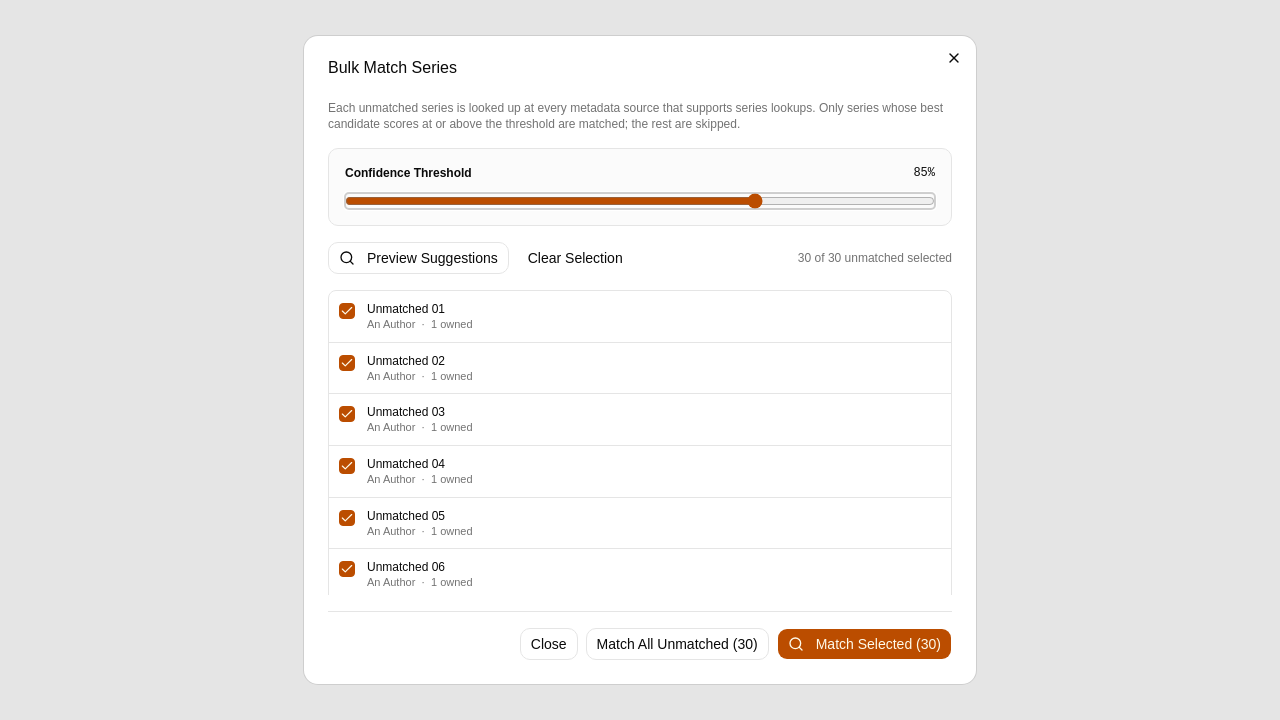
Test: SeriesMatchDialog › caps preview suggestions instead of issuing one request per unmatched row
Check: the text "Unmatched 01" is shown, box [367, 302, 445, 316]
Click the button "Preview Suggestions" at x=418, y=258, box [328, 242, 509, 274]
(page scrolled)
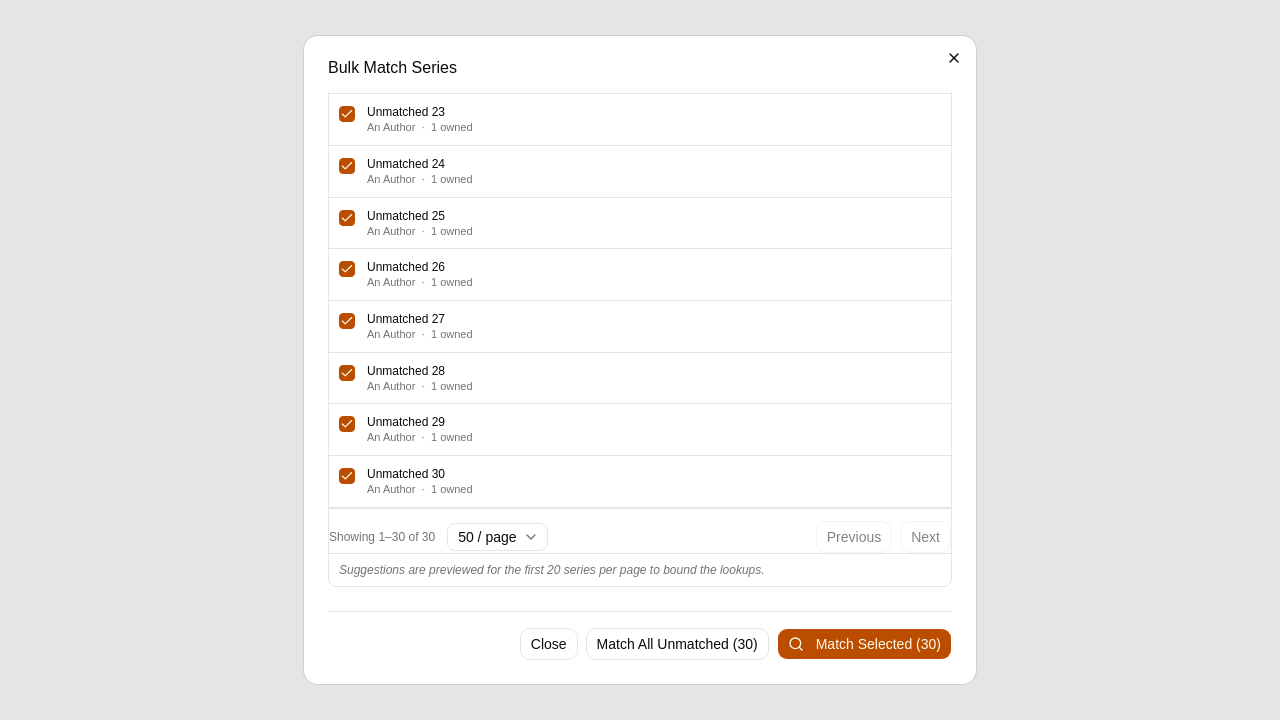
Check: the text "Suggestions are previewed for the first 20 series" is shown, box [339, 563, 765, 577]
